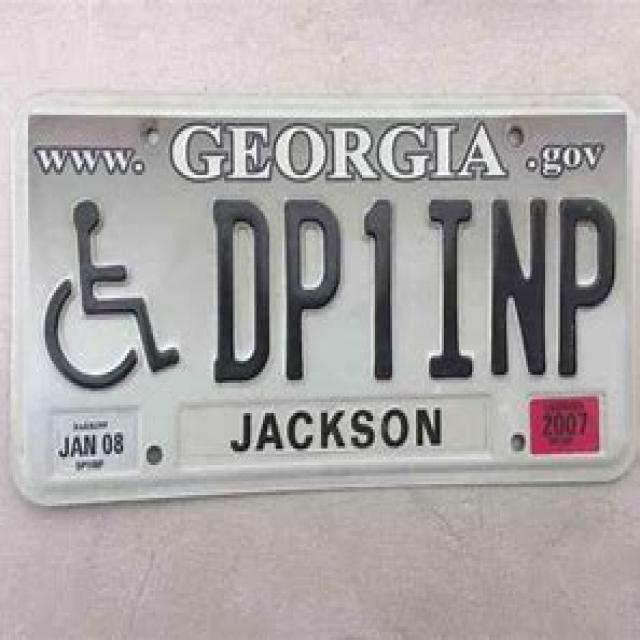car-handicap-placard: (42, 197, 182, 393)
